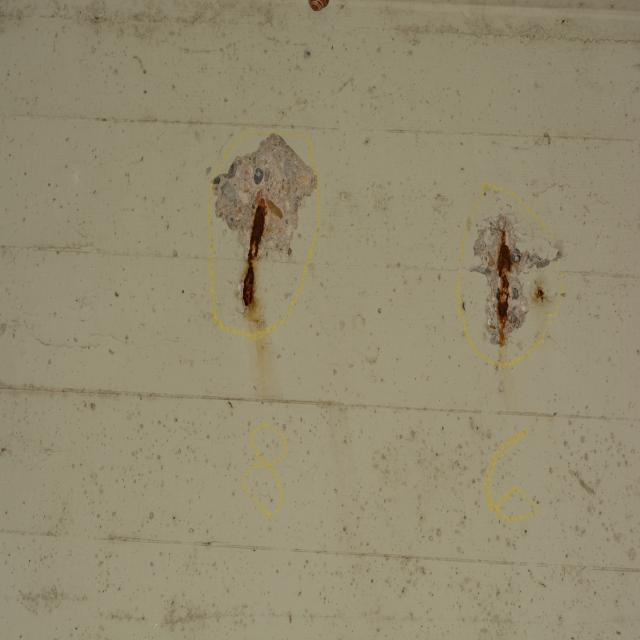corrosion: (217, 165, 316, 367), (452, 218, 554, 380)
